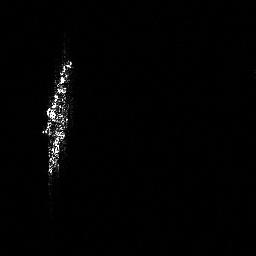ship: (41, 43, 74, 196)
